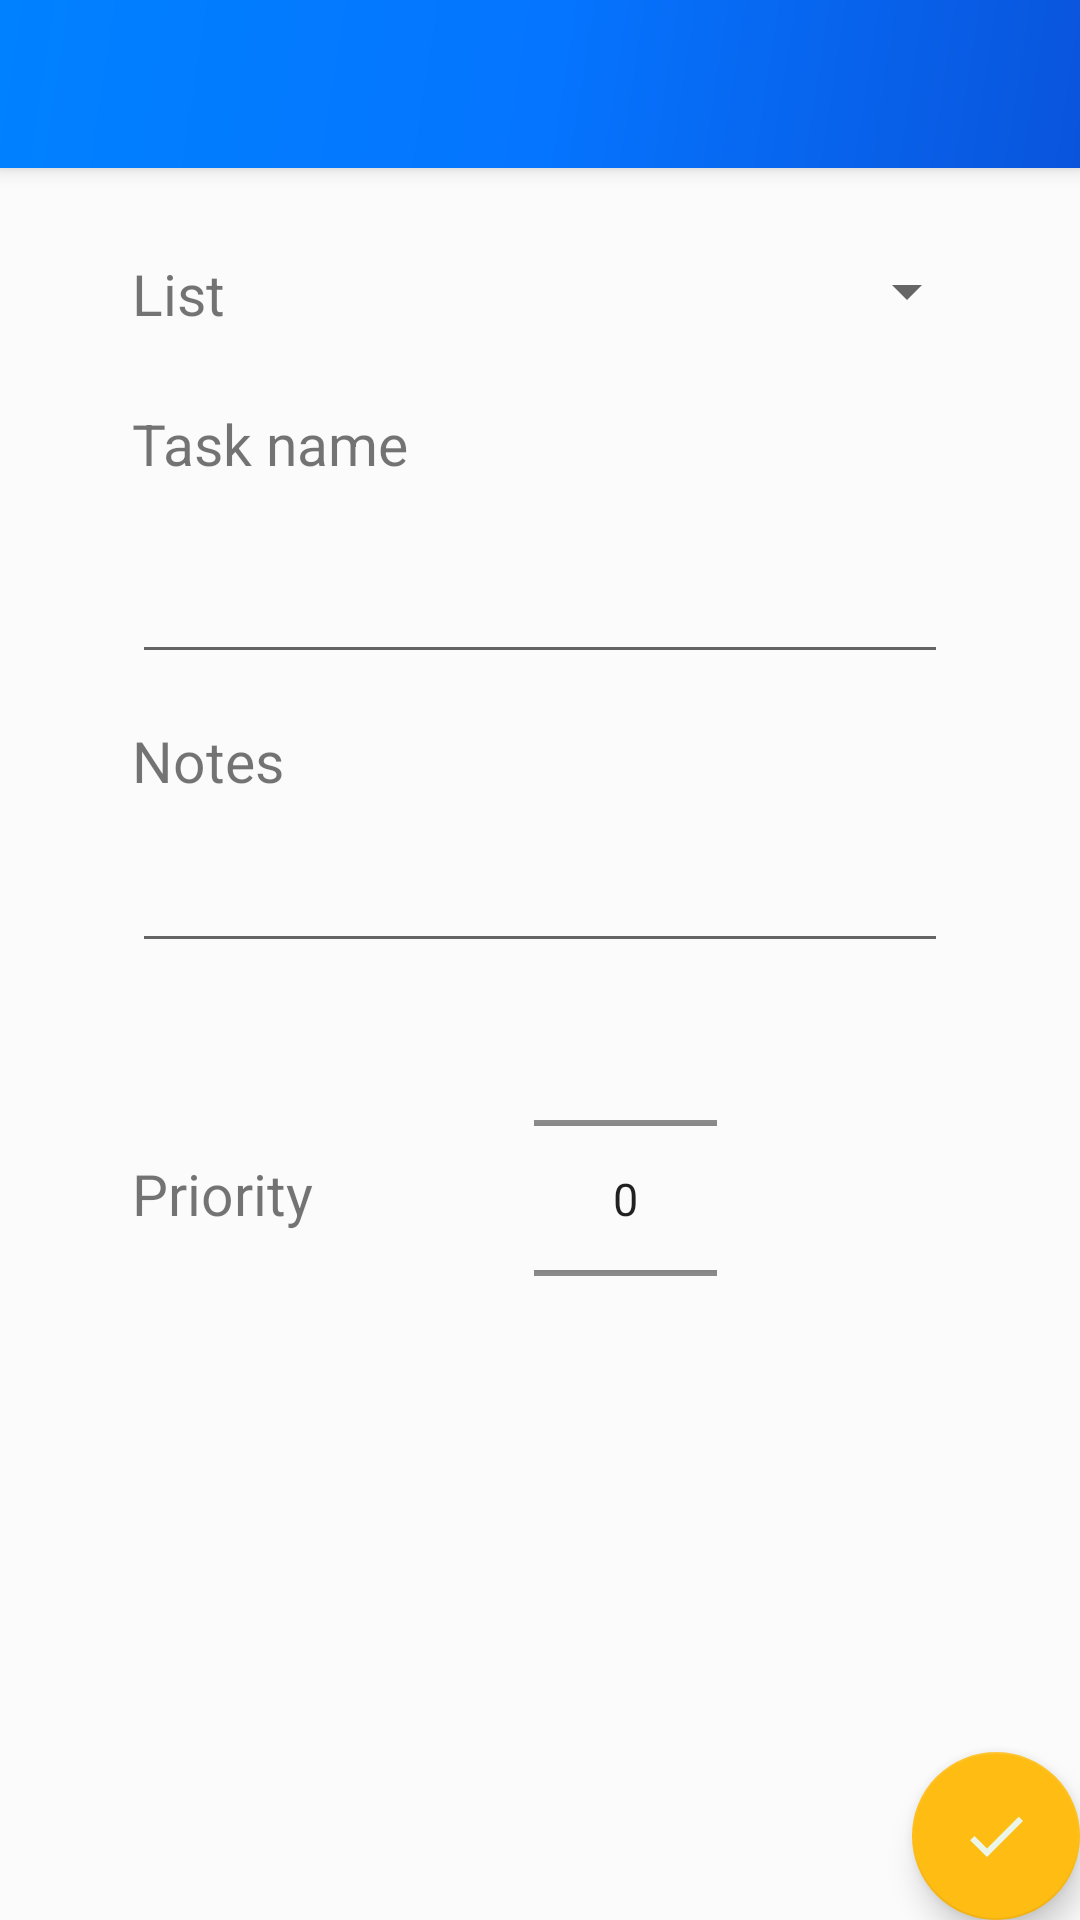

Icon bounding boxes for this 1080 x 1920 phone screenshot, format (x1, y1, x2, y2):
done: (912, 1752, 1080, 1920)
